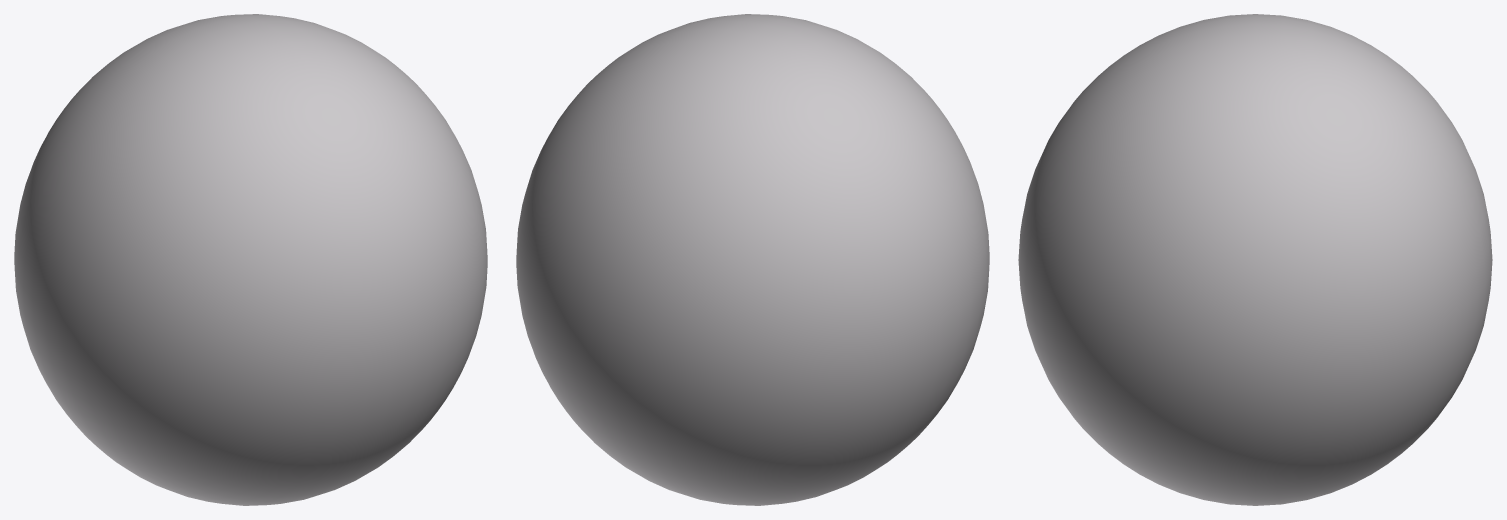
File: Munition.fbx
3 renders of one model, left to right at view 1: azimuth 30°, elevation 25°; view 2: azimuth 150°, elevation 25°; view 3: azimuth 270°, elevation 25°, orthographic.
Parts seen in each view (by area): view 1: root; view 2: root; view 3: root.
Part boxes in pixels (box(x1,y1,x2,y2)): root: box(14, 14, 487, 505); root: box(516, 14, 989, 505); root: box(1018, 14, 1492, 505).
Bounding box in the file's own units: 0.4572 × 0.4787 × 0.4572.
Materials: 1 (1 with a texture image).
